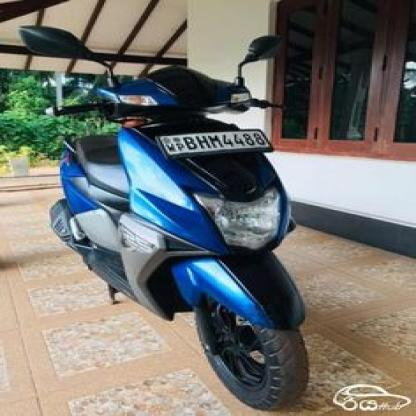bike front: (16, 18, 319, 416)
number plate: (161, 130, 271, 155)
